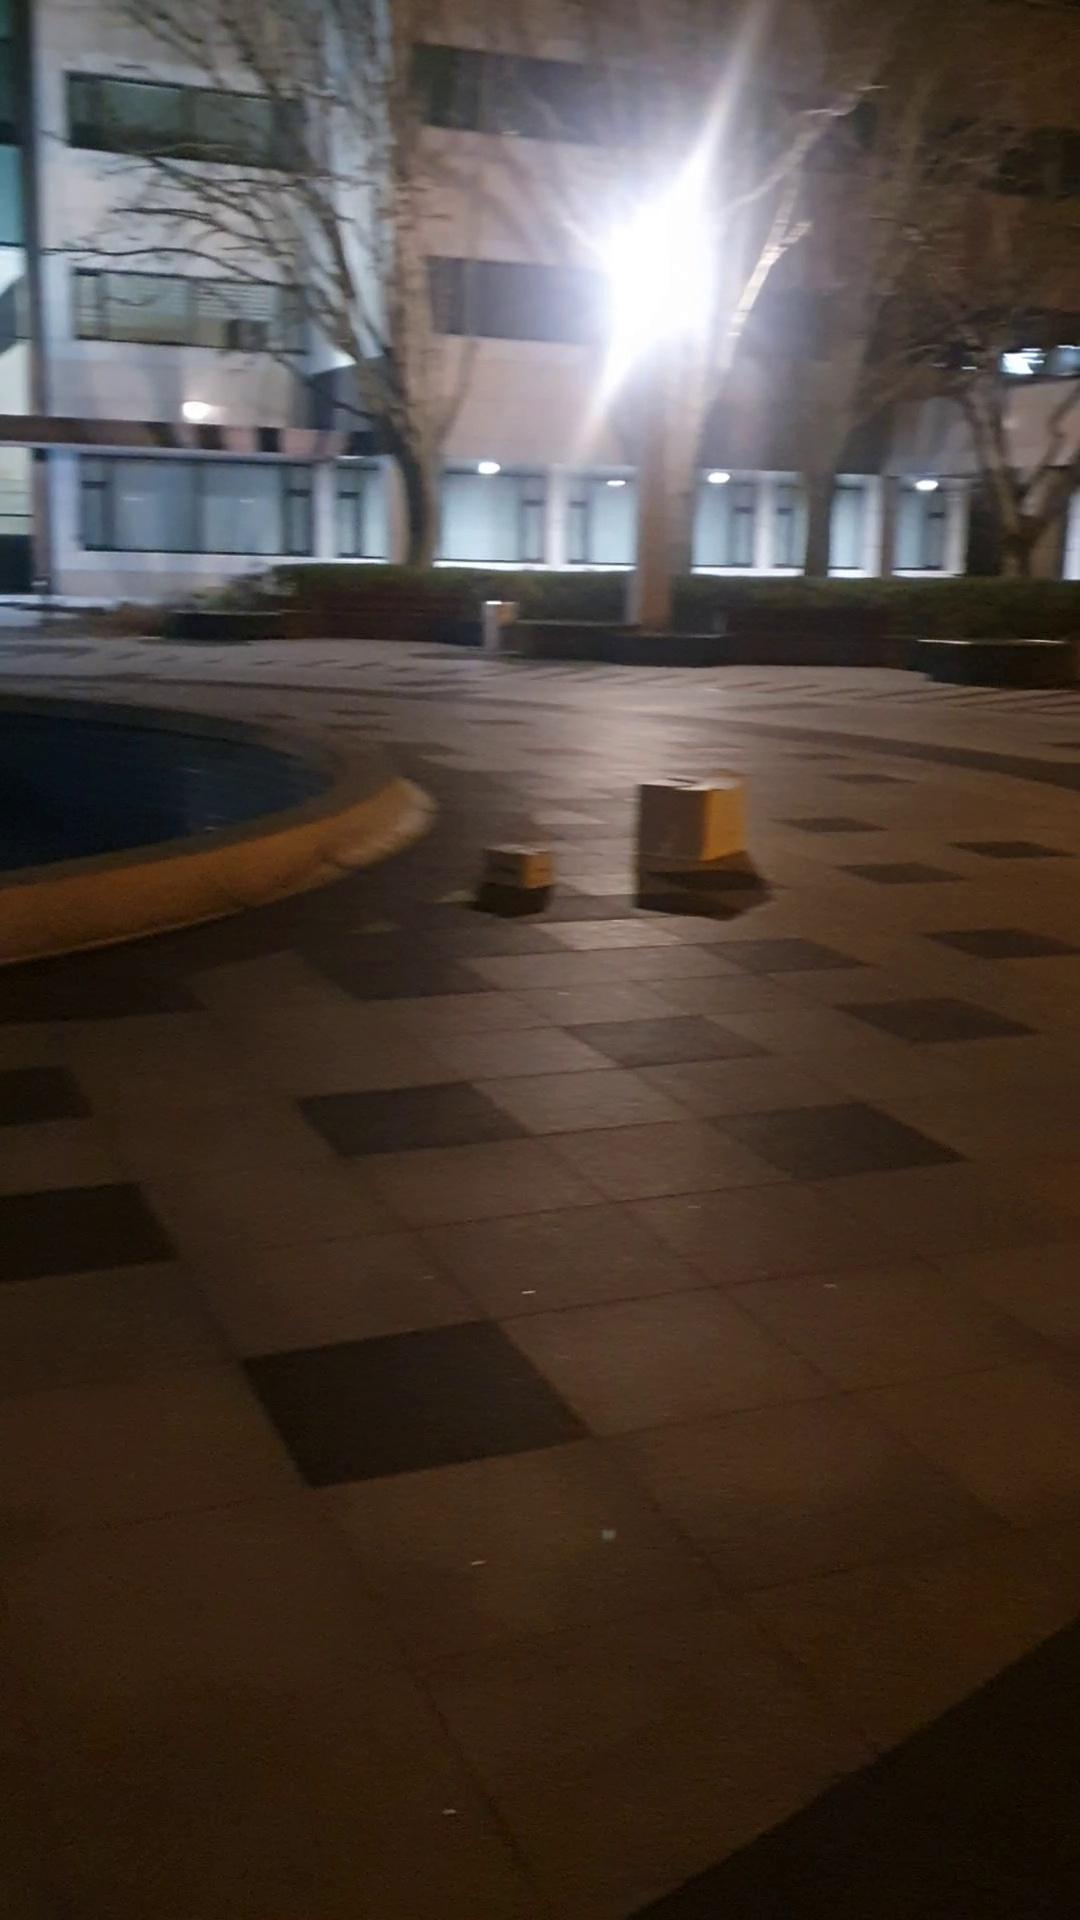Box: (611, 778, 756, 873), (493, 837, 553, 903)
